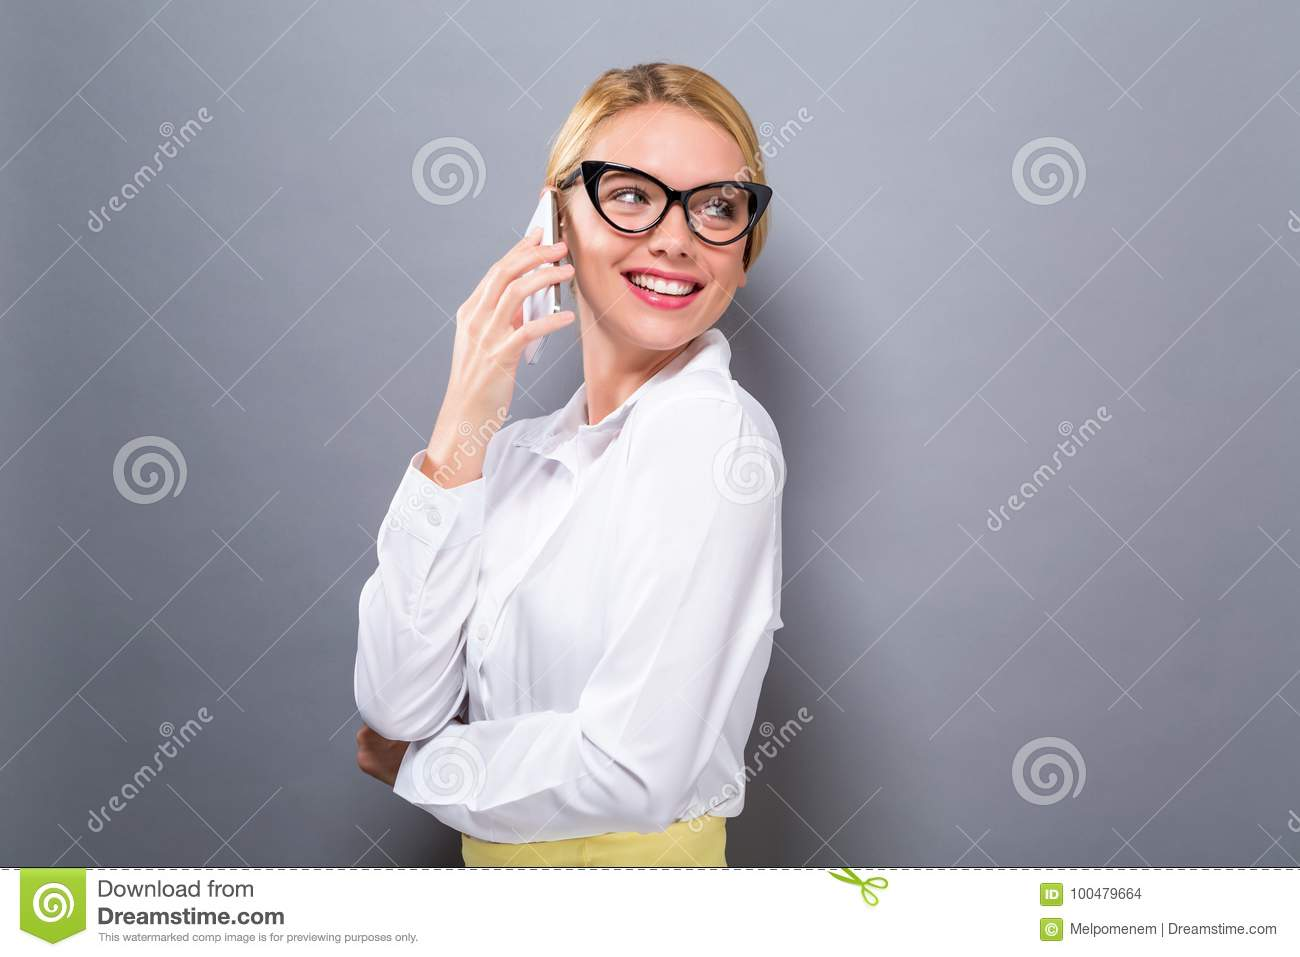phone: (517, 185, 560, 369)
talk: (428, 158, 741, 464)
